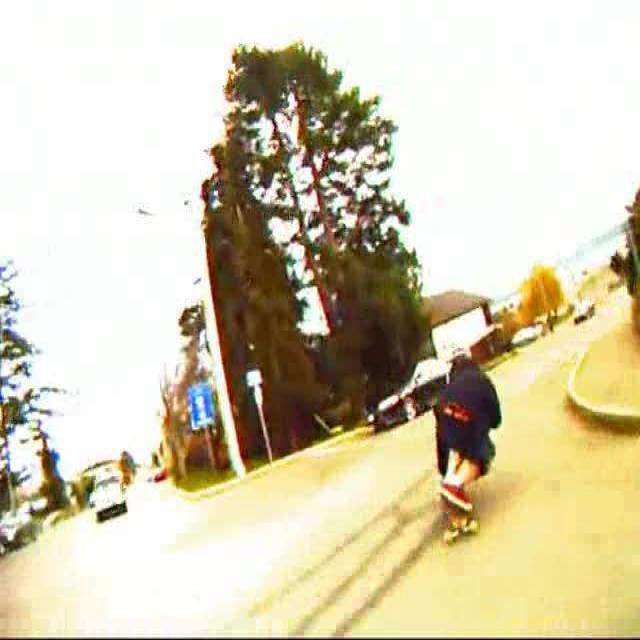other: (420, 461, 526, 555), (508, 251, 574, 349)
